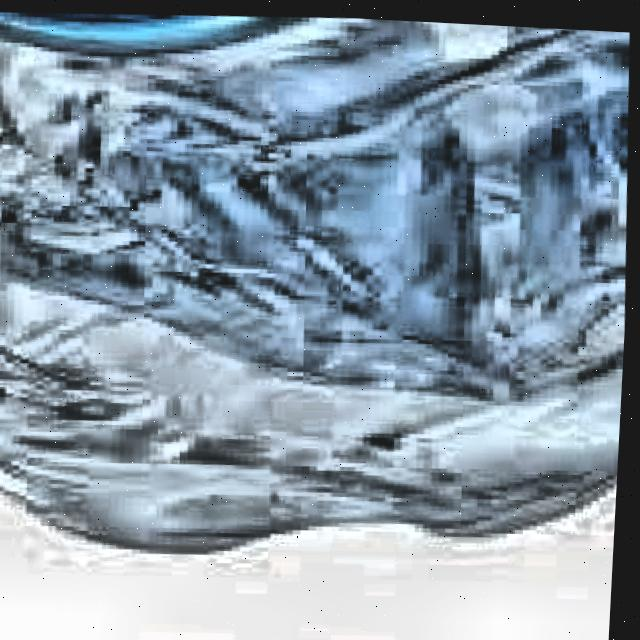plastic: (0, 0, 640, 583)
